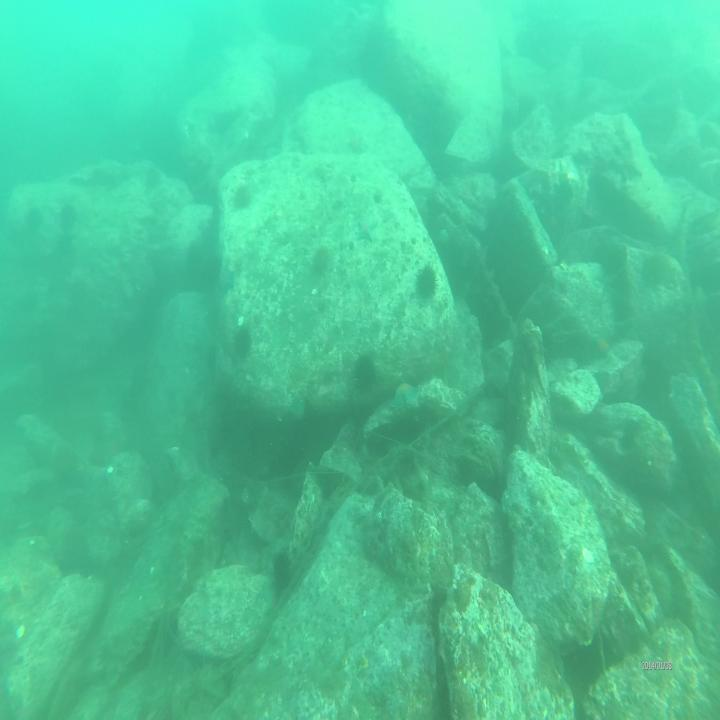echinus: (270, 546, 294, 605), (639, 244, 671, 288), (413, 256, 440, 303), (348, 350, 376, 395), (54, 197, 79, 245), (307, 241, 332, 286), (20, 197, 42, 234), (232, 326, 253, 364), (230, 180, 252, 212)
